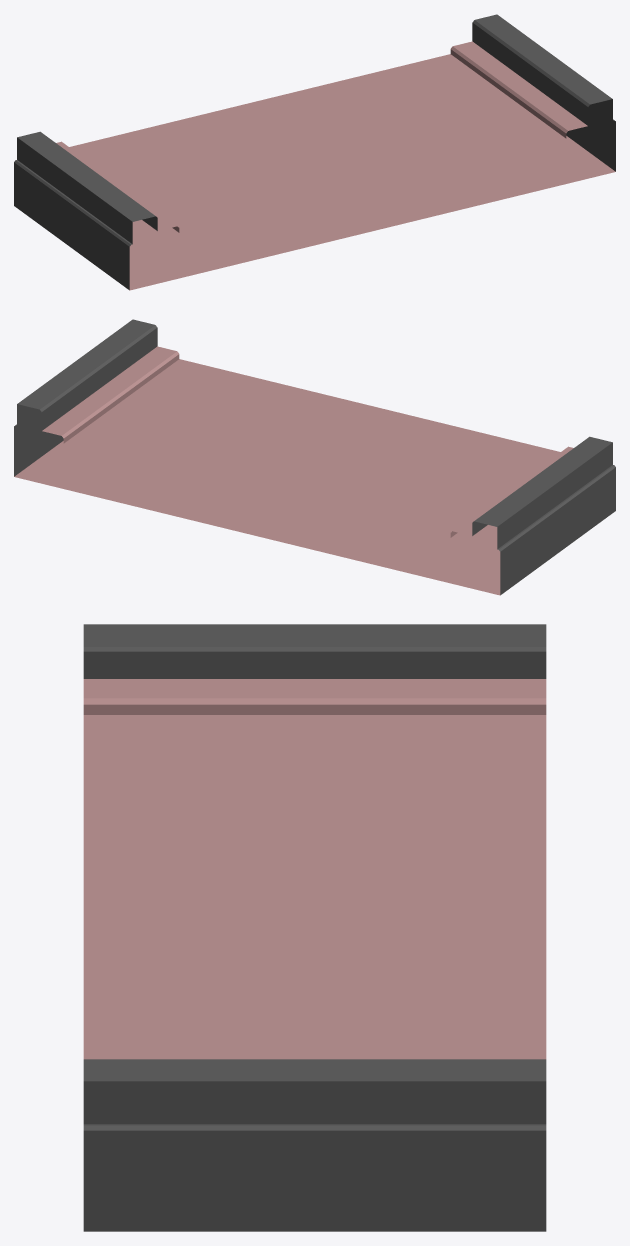
File: Polyadd.fbx
3 views of the same model, one above another, from view 1: azimuth 30°, elevation 25°; view 2: azimuth 150°, elevation 25°; view 3: azimuth 270°, elevation 25° (orthographic). The views are drawn at different scales.
Parts seen in each view (by area): view 1: Polyadd; view 2: Polyadd; view 3: Polyadd.
Part boxes in pixels (bbox=[...]): Polyadd: bbox=[14, 14, 615, 290]; Polyadd: bbox=[14, 319, 615, 595]; Polyadd: bbox=[83, 624, 546, 1231].
Size of the model in its own units: 25.21 by 10.39 by 3.65.
